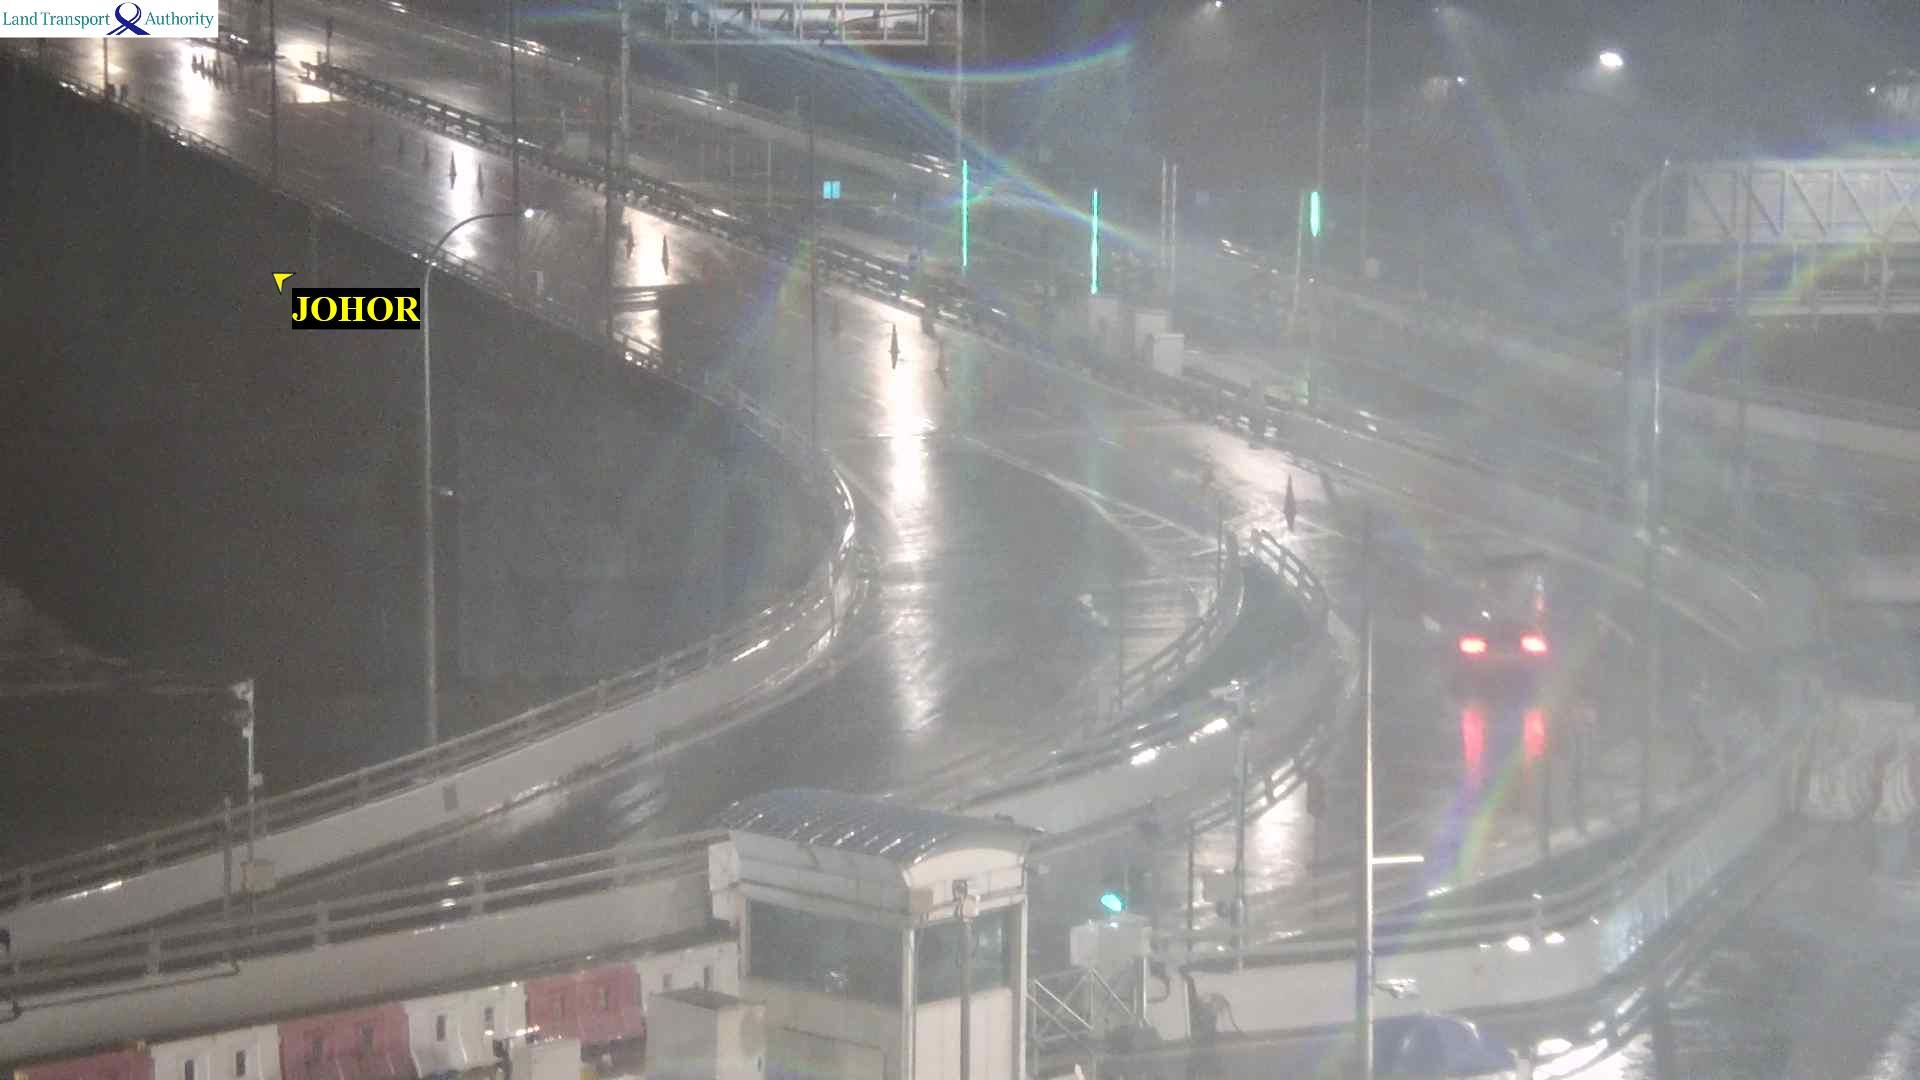vehicle-secondlink-johor: (1378, 531, 1552, 676)
